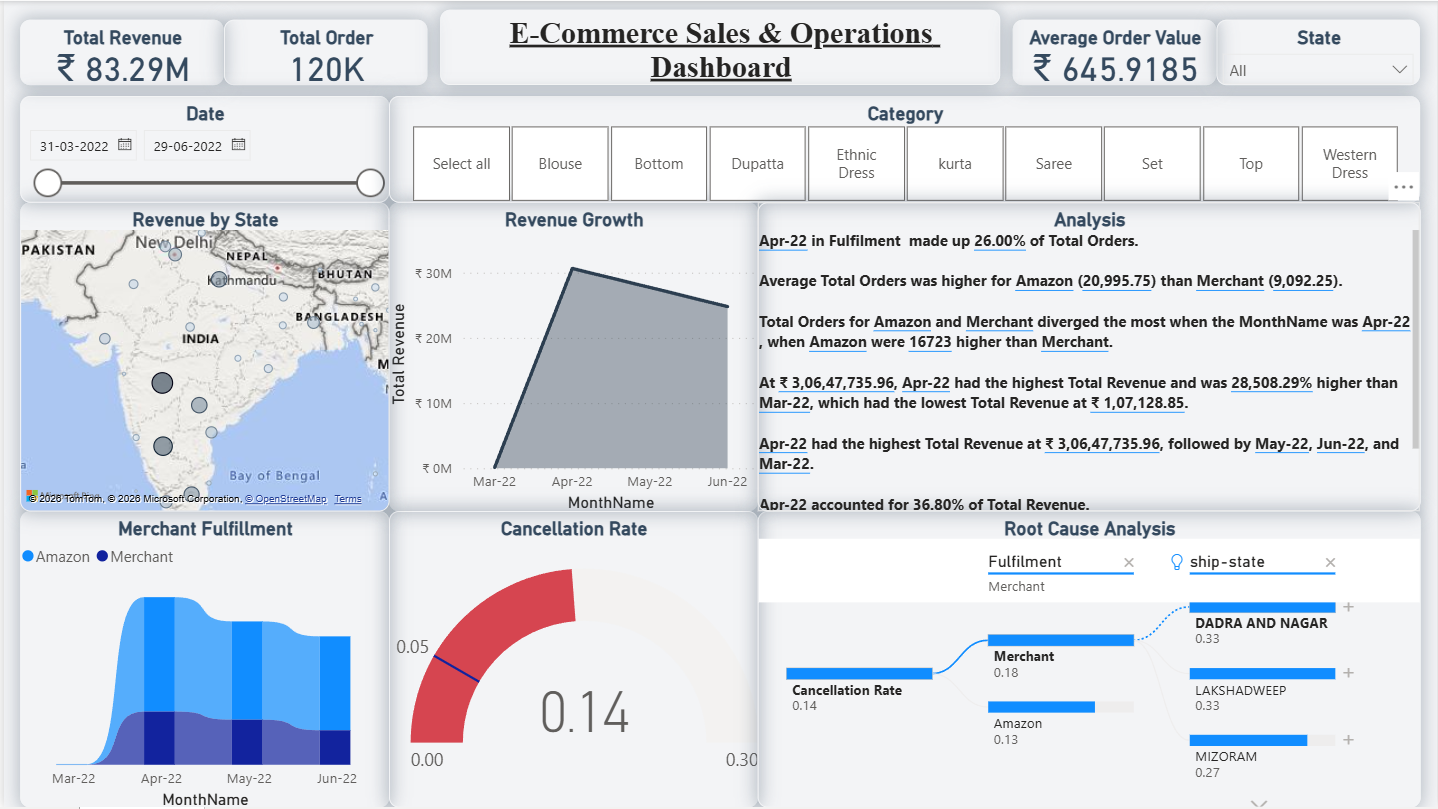

The page's visual inventory and layout, read from the dashboard file:
{"tool":"powerbi","page":{"name":"Dashboard","canvas":[1280,720],"ordinal":0},"visuals":[{"type":"card","title":"Total Revenue","fields":{"Values":["_Measures.Total Revenue"]},"box":[14.5,16.7,182,58],"z":0},{"type":"card","title":"Total Order","fields":{"Values":["_Measures.Total Orders"]},"box":[196.5,16.7,182,58],"z":1000},{"type":"card","title":"Average Order Value","fields":{"Values":["_Measures.AOV"]},"box":[900.8,16.7,182,58],"z":2000},{"type":"areaChart","title":"Revenue Growth","fields":{"Category":["fact_sales.MonthName"],"Y":["_Measures.Total Revenue"]},"box":[343.8,186.4,329.3,275.7],"z":3000},{"type":"ribbonChart","title":"Merchant Fulfillment","fields":{"Category":["fact_sales.MonthName"],"Y":["_Measures.Total Orders"],"Series":["fact_sales.Fulfilment"]},"box":[673.1,186.4,329.3,275.7],"z":4000},{"type":"gauge","title":"Cancellation Rate","fields":{"Y":["_Measures.Cancellation Rate"],"TargetValue":["_Measures.Target"]},"box":[1002.4,186.4,262.3,275.7],"z":5000},{"type":"map","title":"Revenue by State","fields":{"Category":["dim_locations.ship-state"],"Size":["_Measures.Total Revenue"]},"box":[14.5,186.4,329.3,275.7],"z":6000},{"type":"decompositionTreeVisual","title":"Root Cause Analysis","fields":{"Analyze":["_Measures.Cancellation Rate"],"ExplainBy":["fact_sales.Fulfilment","dim_locations.ship-state","dim_products.Category"]},"box":[673.1,462.1,591.6,250],"z":7000},{"type":"slicer","title":"Date","fields":{"Values":["fact_sales.Date"]},"box":[14.5,84.8,329.3,94.9],"z":8000},{"type":"slicer","title":"Category","fields":{"Values":["dim_products.Category"]},"box":[343.8,84.8,920.9,94.9],"z":9000},{"type":"slicer","title":"State","fields":{"Values":["dim_locations.ship-state"]},"box":[1082.8,16.7,182,58],"z":10000},{"type":"textbox","title":"Analysis","box":[14.5,462.1,658.6,250],"z":10001},{"type":"textbox","box":[389.6,7.8,500.1,67],"z":10002}]}

Visuals, with their boxes in screenshot pixels (x1, y1, x2, y2), scaled from the page's 1280x720 canvas onto the 1438x809 screenshot:
"Total Revenue" card: [16,19,221,84]
"Total Order" card: [221,19,425,84]
"Average Order Value" card: [1012,19,1216,84]
"Revenue Growth" areaChart: [386,209,756,519]
"Merchant Fulfillment" ribbonChart: [756,209,1126,519]
"Cancellation Rate" gauge: [1126,209,1421,519]
"Revenue by State" map: [16,209,386,519]
"Root Cause Analysis" decompositionTreeVisual: [756,519,1421,800]
"Date" slicer: [16,95,386,202]
"Category" slicer: [386,95,1421,202]
"State" slicer: [1216,19,1421,84]
"Analysis" textbox: [16,519,756,800]
textbox: [438,9,1000,84]
